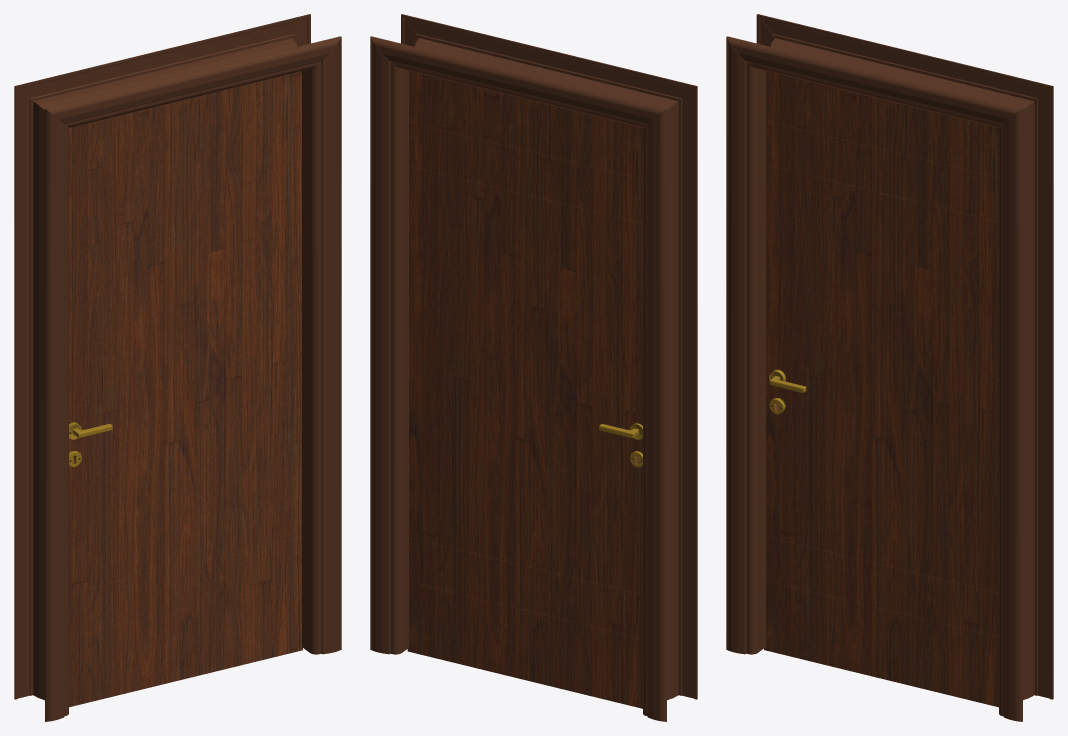
Rendered from puerta_isoplana.glb.
3 views of the same model, side by side, from view 1: azimuth 30°, elevation 25°; view 2: azimuth 150°, elevation 25°; view 3: azimuth 330°, elevation 25° (orthographic).
Parts seen in each view (by area): view 1: Object_9, Object_6; view 2: Object_9, Object_6; view 3: Object_9, Object_6.
Boxes of the visible parts, bbox=[...] form: Object_9: bbox=[69, 71, 302, 707]; Object_6: bbox=[14, 14, 341, 721]; Object_9: bbox=[407, 71, 642, 708]; Object_6: bbox=[370, 14, 697, 721]; Object_9: bbox=[764, 71, 998, 707]; Object_6: bbox=[726, 14, 1053, 721].
Bounding box in the file's own units: 44.2 × 88.04 × 8.5.
6 materials, 1 textured.
